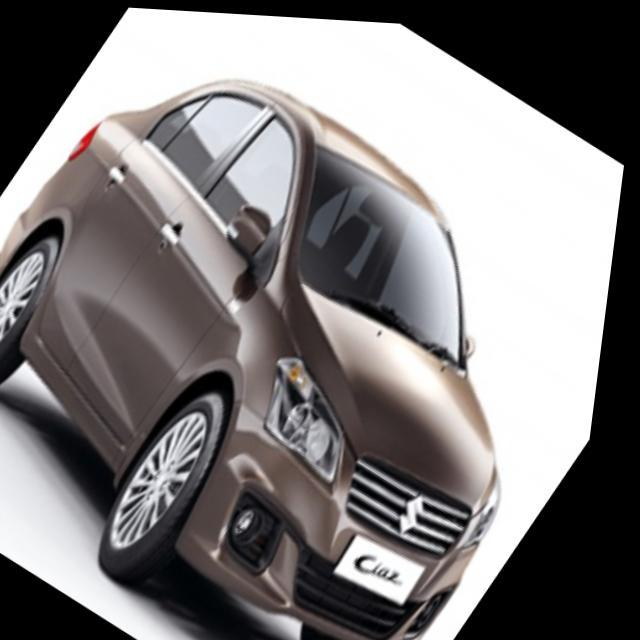license_plate: (345, 516, 444, 595)
